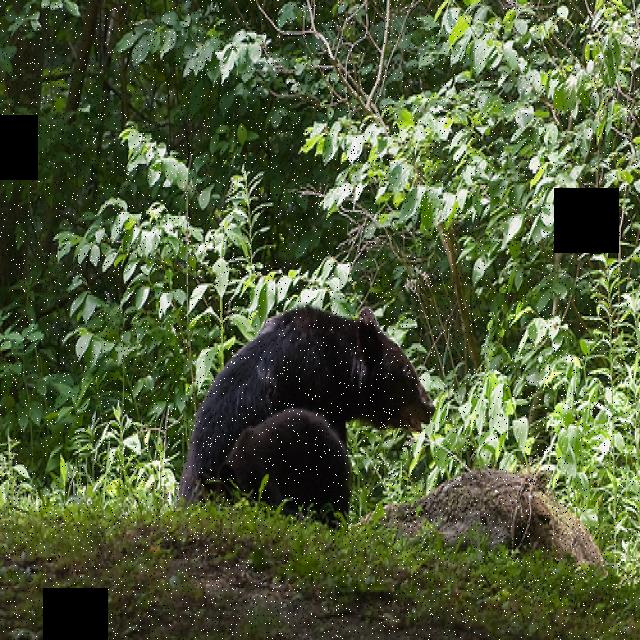Bear: (181, 302, 442, 525)
